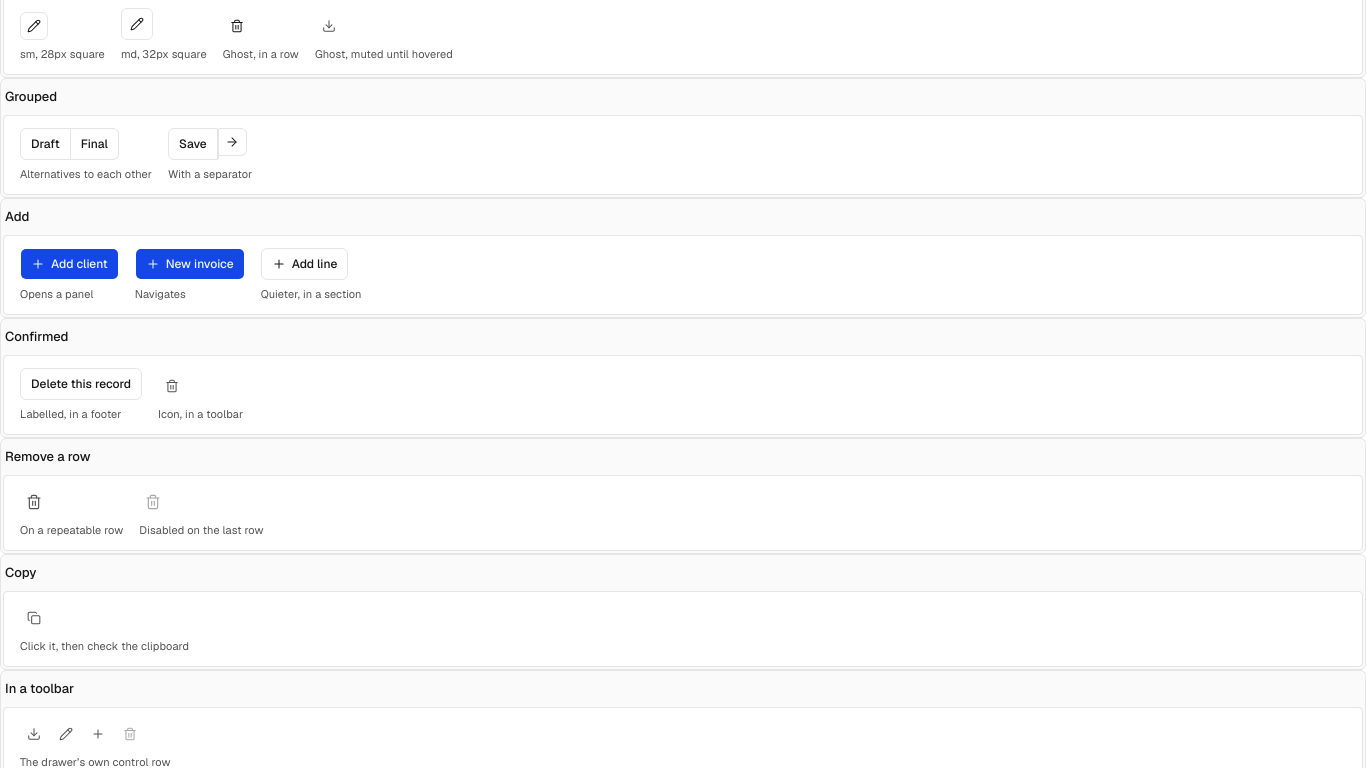
the button specimens › asks before a destructive action, in the app’s own dialog
This screenshot has width=1366, height=768.
(page scrolled)
Click the button "Delete this record": (81, 384) [20,368,142,400]
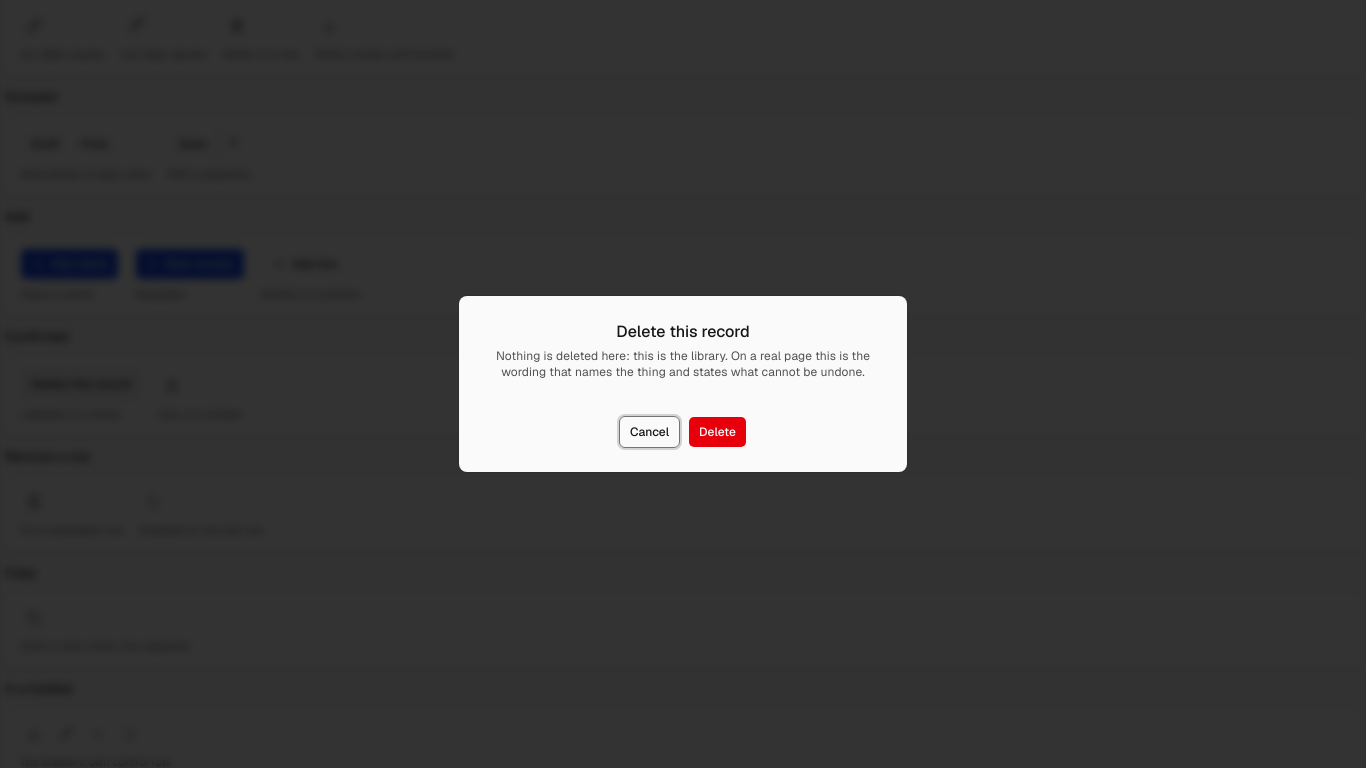
Expected: the dialog shows "cannot be undone", [496,348,870,380]
Expected: the button "Delete" is shown, [688,416,747,448]
